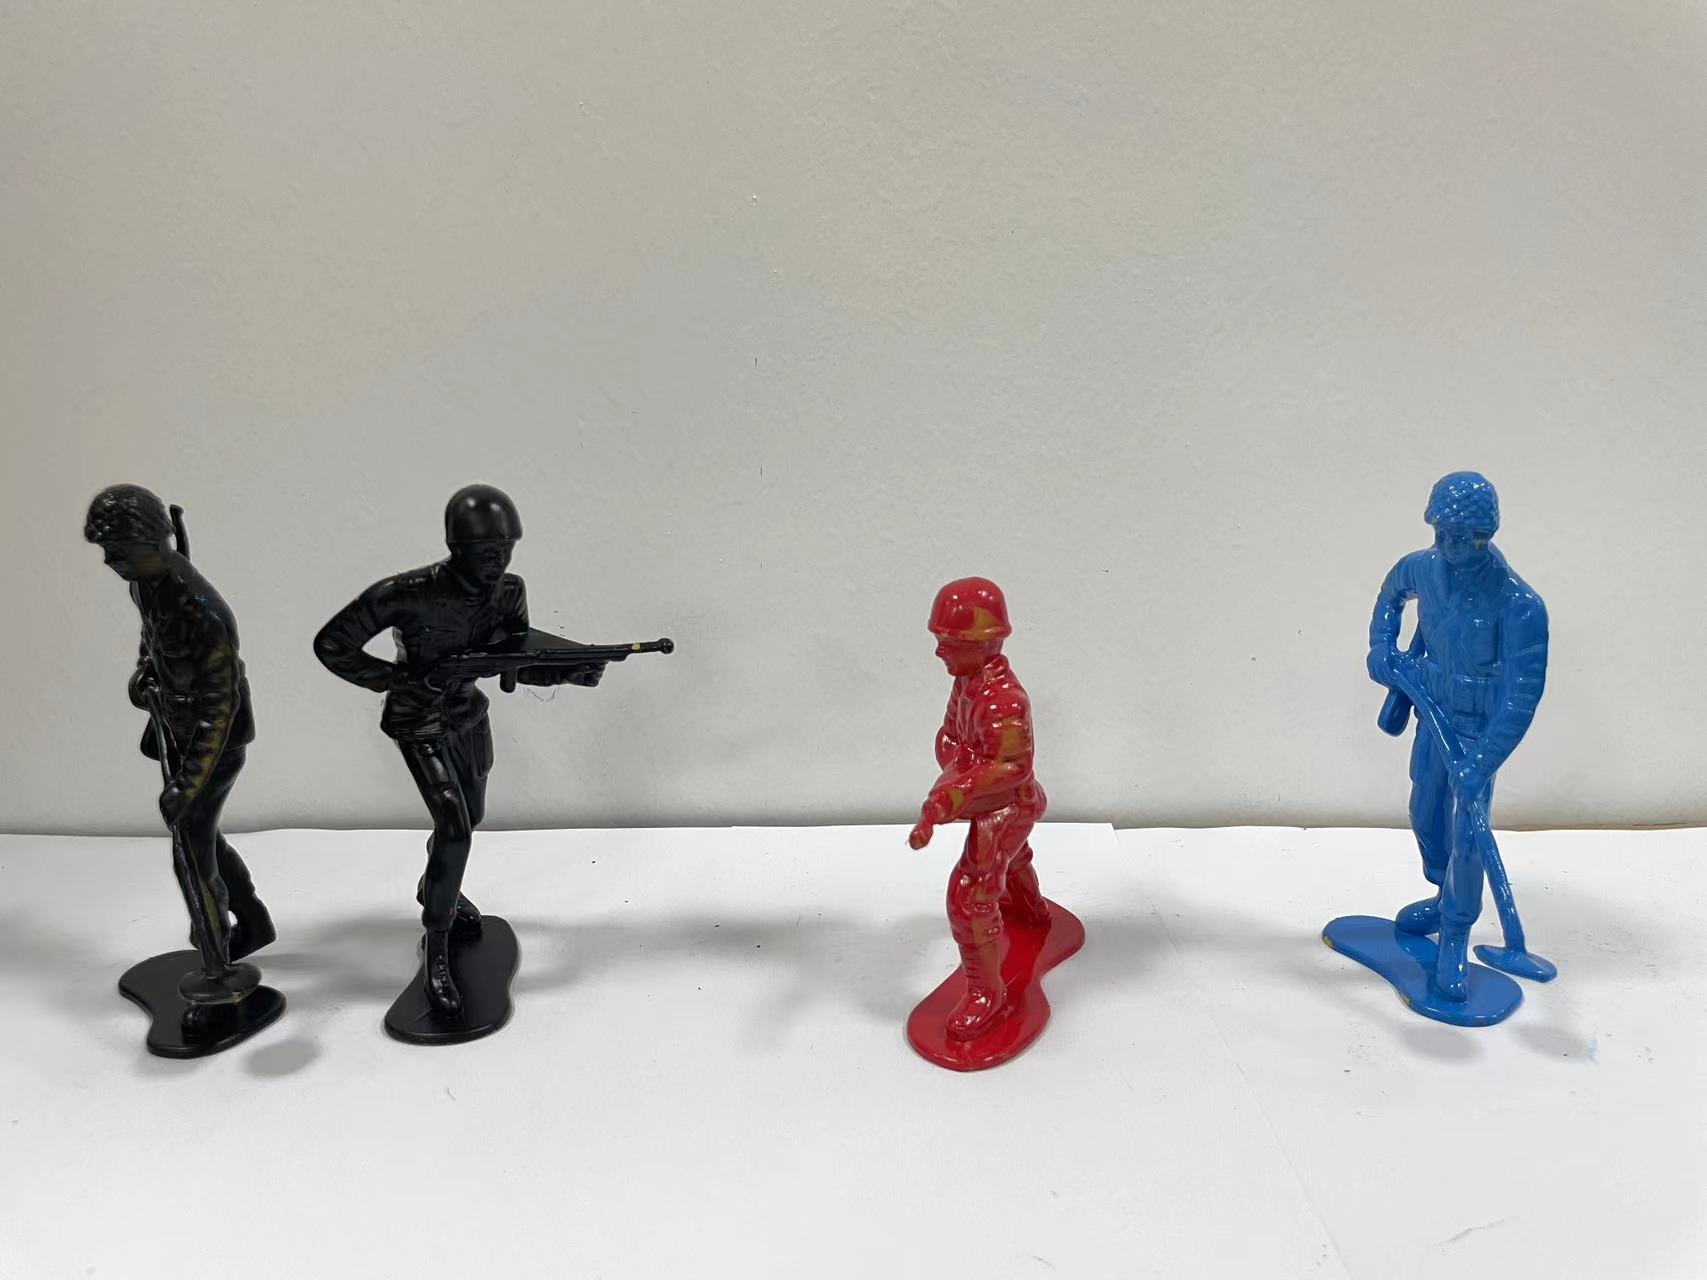black: (306, 454, 712, 1055), (40, 469, 304, 1059)
blue: (1255, 452, 1659, 1042)
red: (854, 546, 1152, 1113)
